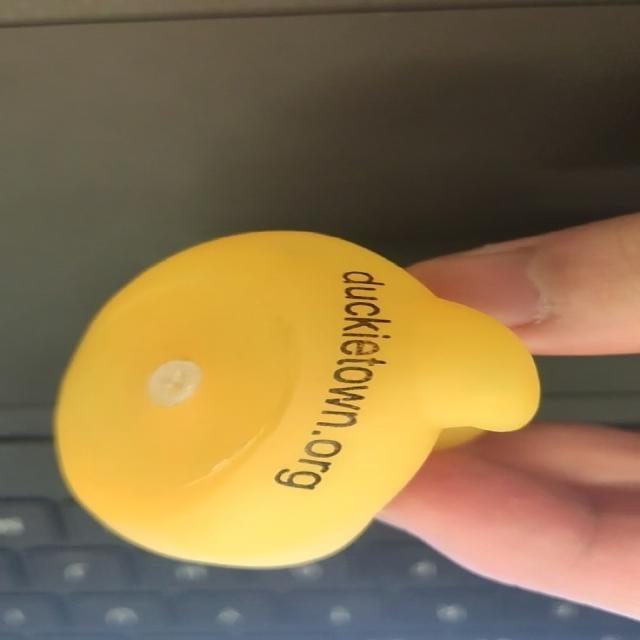rubber-duck: (54, 230, 537, 565)
